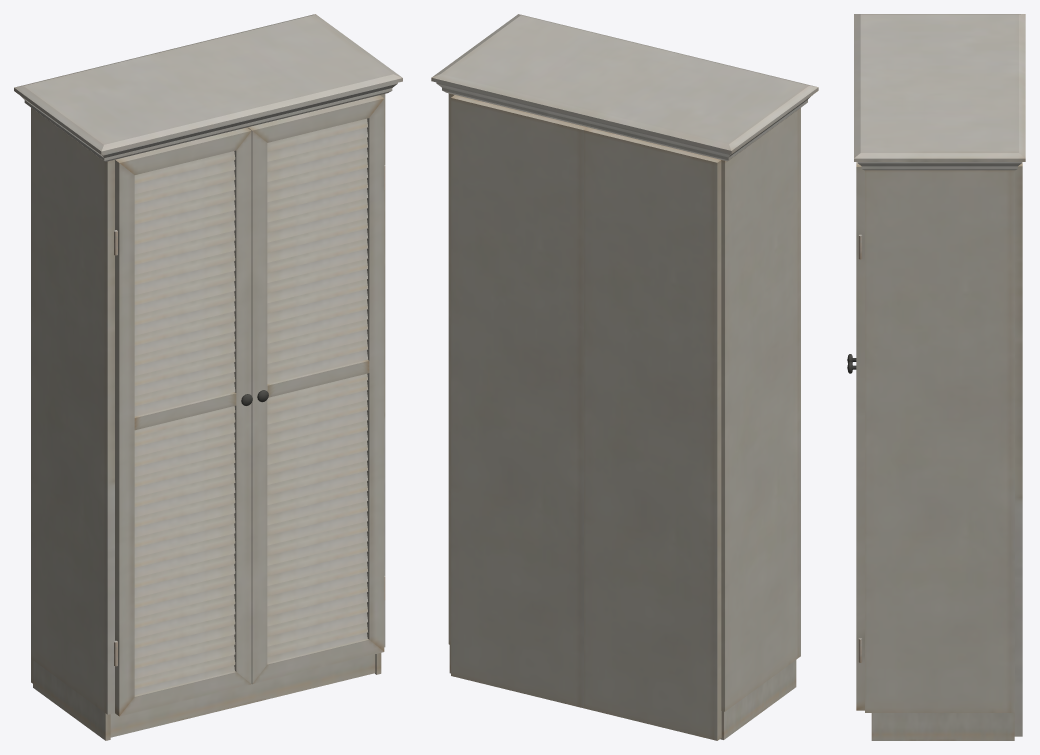
The model's file is ClothCloset_B.FBX.
The picture shows the model from 3 angles, left to right: view 1: azimuth 30°, elevation 25°; view 2: azimuth 150°, elevation 25°; view 3: azimuth 270°, elevation 25°; orthographic projection.
Visible parts, largest first — view 1: ClothCloset_B, Closet_GridDoor_R, Closet_GridDoor_L; view 2: ClothCloset_B; view 3: ClothCloset_B, Closet_GridDoor_L.
Part boxes in pixels (x1,y1,x2,y2): ClothCloset_B: (14,14,402,740); Closet_GridDoor_R: (114,127,252,716); Closet_GridDoor_L: (247,95,385,683); ClothCloset_B: (431,14,818,740); ClothCloset_B: (854,14,1025,740); Closet_GridDoor_L: (847,162,864,710).
Size of the model in its own units: 114 by 218 by 59.48.
